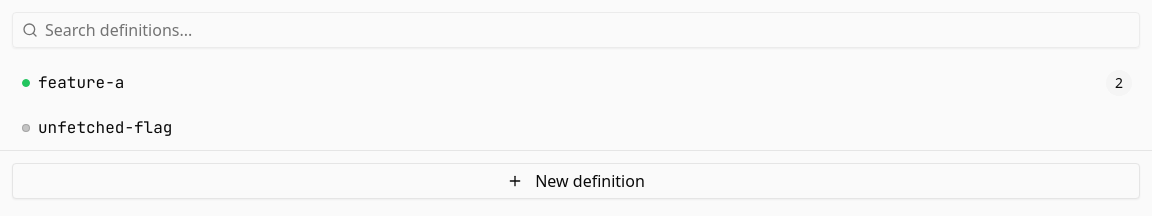
Scenario: DefinitionList › filters unfetched keys by search
Type "unfetched" into the field with placeholder "Search definitions...".
click(576, 30); type("unfetched")  # box [12, 12, 1140, 48]
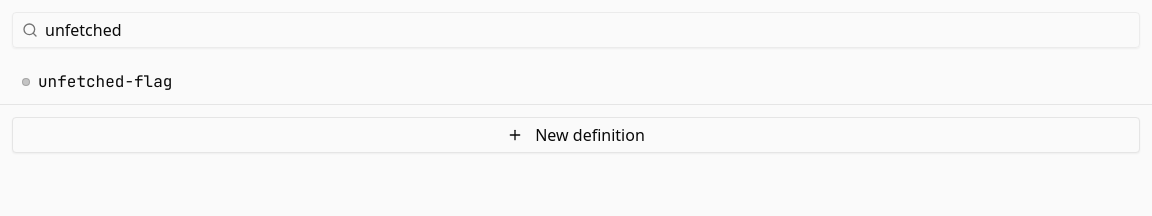
Expected: the text "unfetched-flag" is shown, [38, 71, 172, 92]
Result: the text "feature-a" is gone
